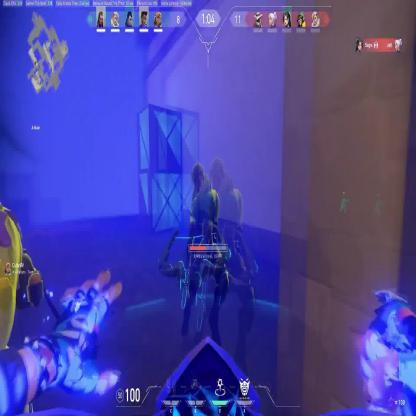enemy: (181, 158, 229, 353), (1, 197, 43, 414)
enemy_head: (191, 163, 205, 191)
